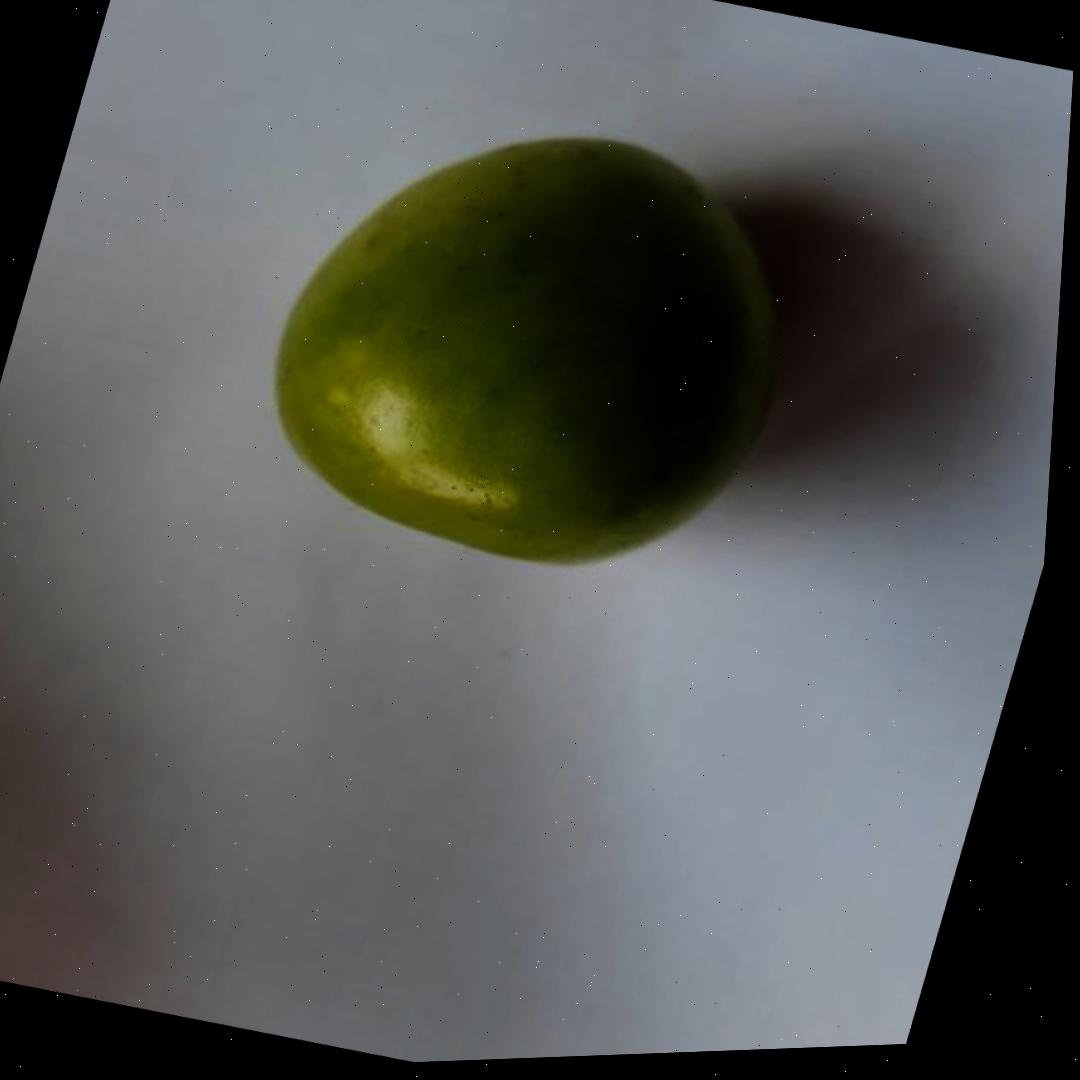mentah: (220, 67, 846, 618)
